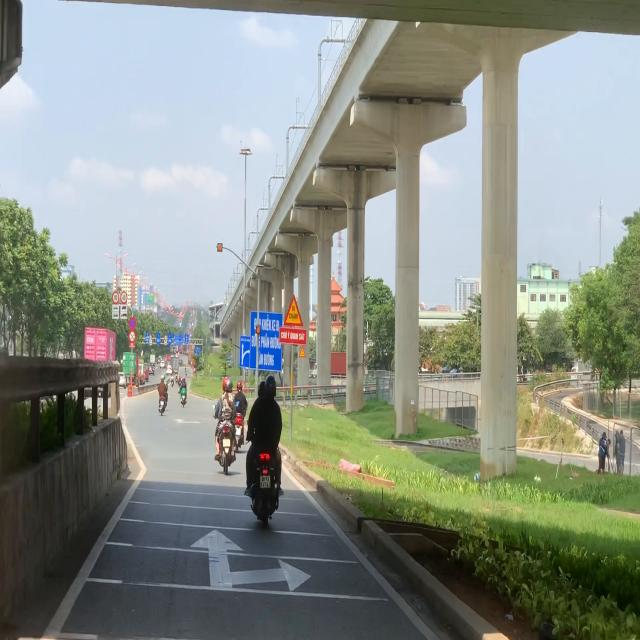Cam dung va do: (129, 317, 136, 330)
Nguy hiem: (283, 294, 304, 327)
Toc do toi da: (112, 291, 119, 303), (121, 292, 127, 304)
